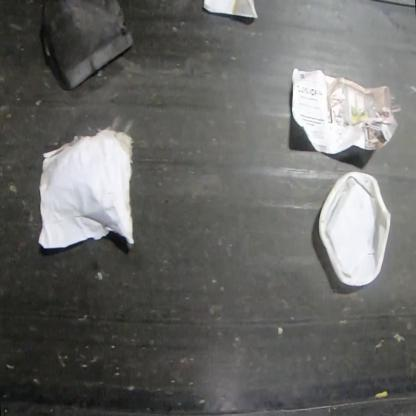rigid_plastic: (316, 170, 392, 287), (40, 0, 135, 91)
